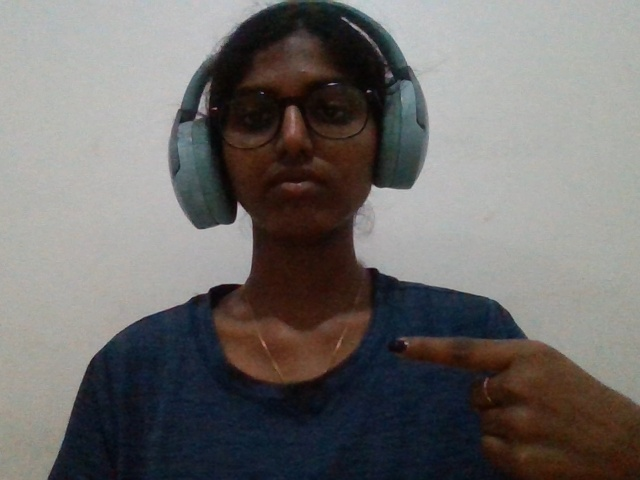Me: (356, 312, 640, 468)
